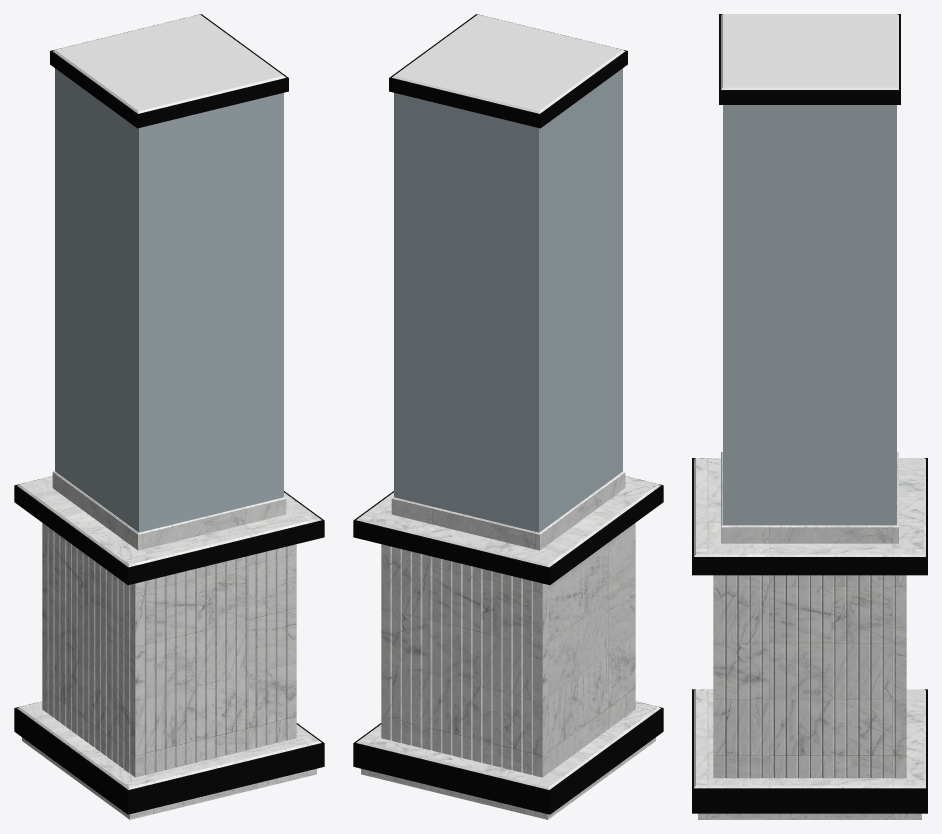
3 renders of one model, left to right at view 1: azimuth 30°, elevation 25°; view 2: azimuth 150°, elevation 25°; view 3: azimuth 270°, elevation 25°, orthographic. The views are drawn at different scales.
Visible parts, largest first — view 1: Box571, Box115, Box574, Box112, Line076, Line074, Box114, Box117, Box113, Line075, Box116, Box572; view 2: Box572, Box115, Box574, Box112, Line076, Line074, Box114, Box117, Box113, Line075, Box116, Box573; view 3: Box573, Box115, Box112, Box114, Line076, Box113, Line074, Box117, Line075, Box571, Box116.
Part boxes in pixels (x1=…): Box571: x1=142, y1=93, x2=283, y2=531; Box115: x1=42, y1=523, x2=296, y2=777; Box574: x1=57, y1=70, x2=141, y2=532; Box112: x1=53, y1=14, x2=285, y2=113; Line076: x1=14, y1=703, x2=324, y2=814; Line074: x1=14, y1=476, x2=324, y2=585; Box114: x1=17, y1=476, x2=321, y2=567; Box117: x1=52, y1=471, x2=286, y2=550; Box113: x1=17, y1=701, x2=321, y2=789; Line075: x1=50, y1=14, x2=288, y2=128; Box116: x1=22, y1=737, x2=316, y2=819; Box572: x1=55, y1=68, x2=56, y2=472; Box572: x1=397, y1=93, x2=540, y2=532; Box115: x1=381, y1=523, x2=635, y2=777; Box574: x1=541, y1=68, x2=622, y2=530; Box112: x1=392, y1=14, x2=624, y2=113; Line076: x1=353, y1=703, x2=663, y2=814; Line074: x1=353, y1=476, x2=663, y2=585; Box114: x1=356, y1=476, x2=660, y2=567; Box117: x1=391, y1=471, x2=625, y2=550; Box113: x1=356, y1=701, x2=660, y2=789; Line075: x1=389, y1=14, x2=627, y2=128; Box116: x1=361, y1=737, x2=655, y2=819; Box573: x1=394, y1=93, x2=397, y2=497; Box573: x1=727, y1=105, x2=896, y2=525; Box115: x1=713, y1=575, x2=906, y2=778; Box112: x1=721, y1=14, x2=898, y2=89; Box114: x1=694, y1=458, x2=925, y2=556; Line076: x1=692, y1=689, x2=927, y2=813; Box113: x1=694, y1=689, x2=925, y2=788; Line074: x1=692, y1=458, x2=927, y2=575; Box117: x1=721, y1=451, x2=898, y2=543; Line075: x1=719, y1=14, x2=900, y2=104; Box571: x1=723, y1=105, x2=726, y2=525; Box116: x1=698, y1=813, x2=921, y2=819.
Size of the model in its own units: 610 by 2059 by 610.
Materials: 5 (1 with a texture image).
